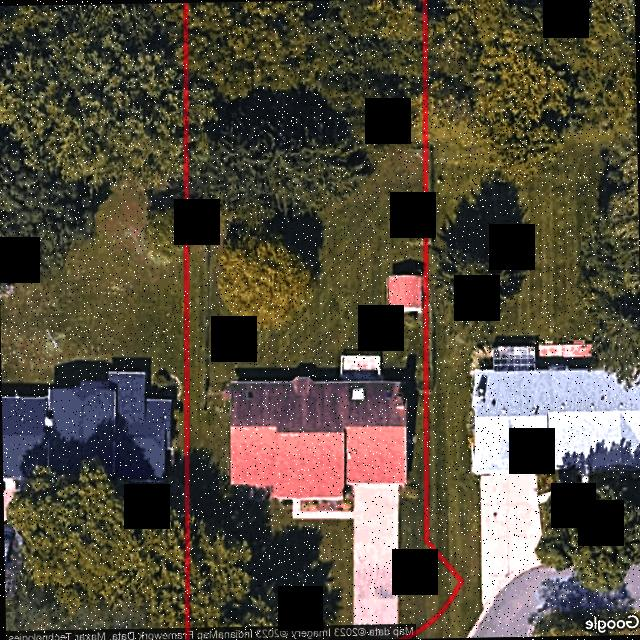Driveway: (292, 482, 397, 639)
Extra Lawn: (411, 586, 463, 638)
House: (230, 375, 406, 499)
Other: (385, 275, 421, 312), (340, 355, 380, 378)
